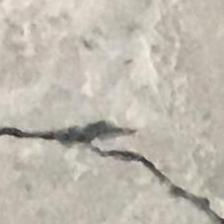Crack: (0, 62, 223, 224)
